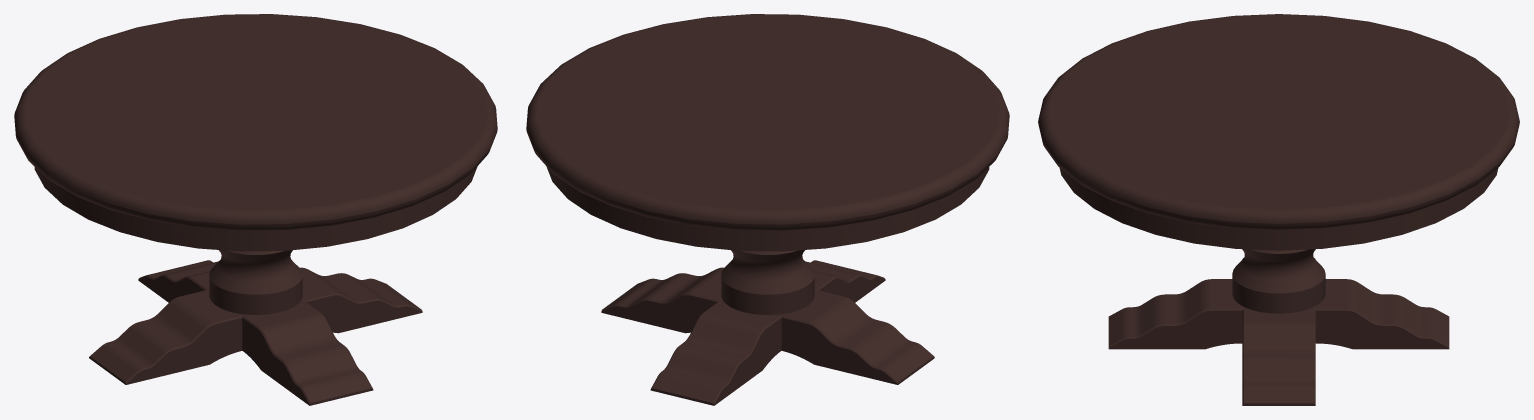
File: TableRonde_32.fbx
3 renders of one model, left to right at view 1: azimuth 30°, elevation 25°; view 2: azimuth 150°, elevation 25°; view 3: azimuth 270°, elevation 25°, orthographic.
Parts seen in each view (by area): view 1: pCylinder17, pCube21, pCube22, pCube20, pCube23; view 2: pCylinder17, pCube21, pCube23, pCube20, pCube22; view 3: pCylinder17, pCube23, pCube22, pCube20.
Part boxes in pixels (bbox=[...]): pCylinder17: bbox=[14, 14, 497, 314]; pCube21: bbox=[89, 290, 242, 384]; pCube22: bbox=[241, 301, 373, 405]; pCube20: bbox=[206, 267, 422, 333]; pCube23: bbox=[138, 260, 218, 302]; pCylinder17: bbox=[526, 14, 1009, 314]; pCube21: bbox=[781, 290, 934, 384]; pCube23: bbox=[650, 301, 782, 405]; pCube20: bbox=[601, 267, 817, 333]; pCube22: bbox=[805, 260, 885, 302]; pCylinder17: bbox=[1038, 14, 1519, 313]; pCube23: bbox=[1309, 279, 1449, 349]; pCube22: bbox=[1108, 279, 1248, 349]; pCube20: bbox=[1242, 309, 1315, 405].
Size of the model in its own units: 54.72 by 27.81 by 54.72.
